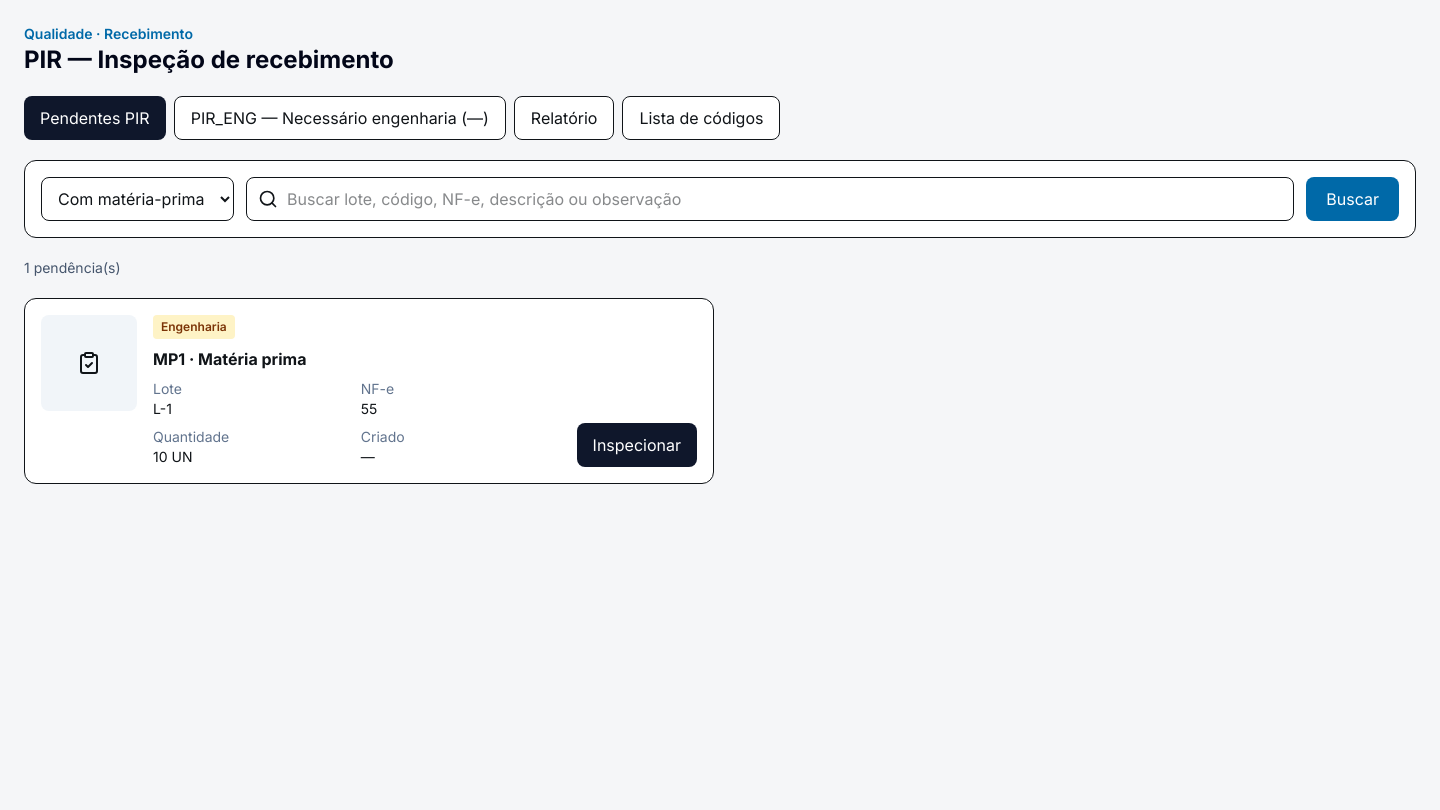
Test: PirScreen safety › loads PIR_ENG with the real flag and never mutates on view/open
expect the heading "MP1 · Matéria prima" is shown: met, box top-left (153, 349), bottom-right (306, 369)
What coordinates should you click on to do the following:
click the button "PIR_ENG — Necessário engenharia (—)"
I would click on:
 (340, 118)
Its box is top-left (174, 96), bottom-right (506, 140).
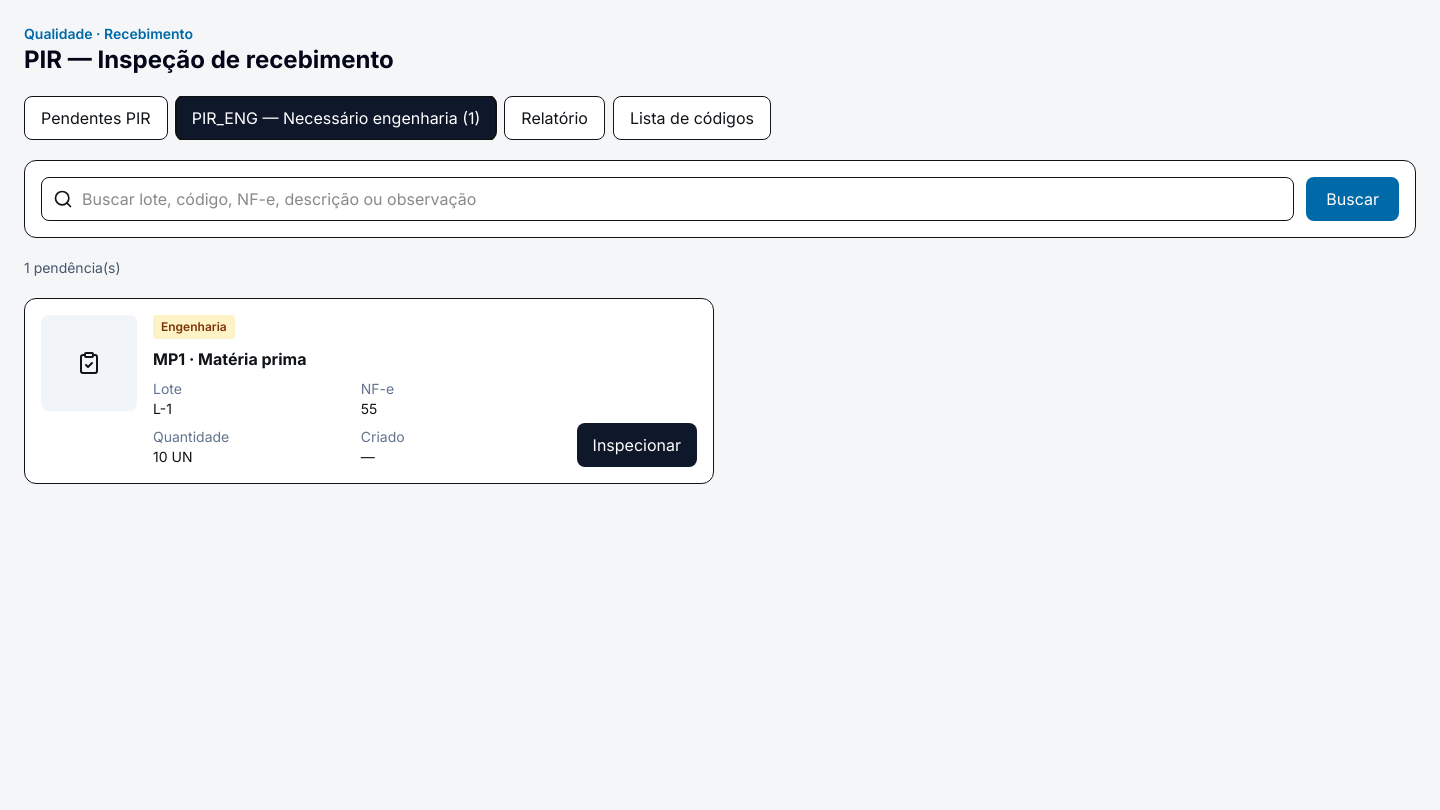
What coordinates should you click on to do the following:
click the button "Inspecionar"
I would click on:
 (637, 445)
Its box is top-left (577, 423), bottom-right (697, 467).
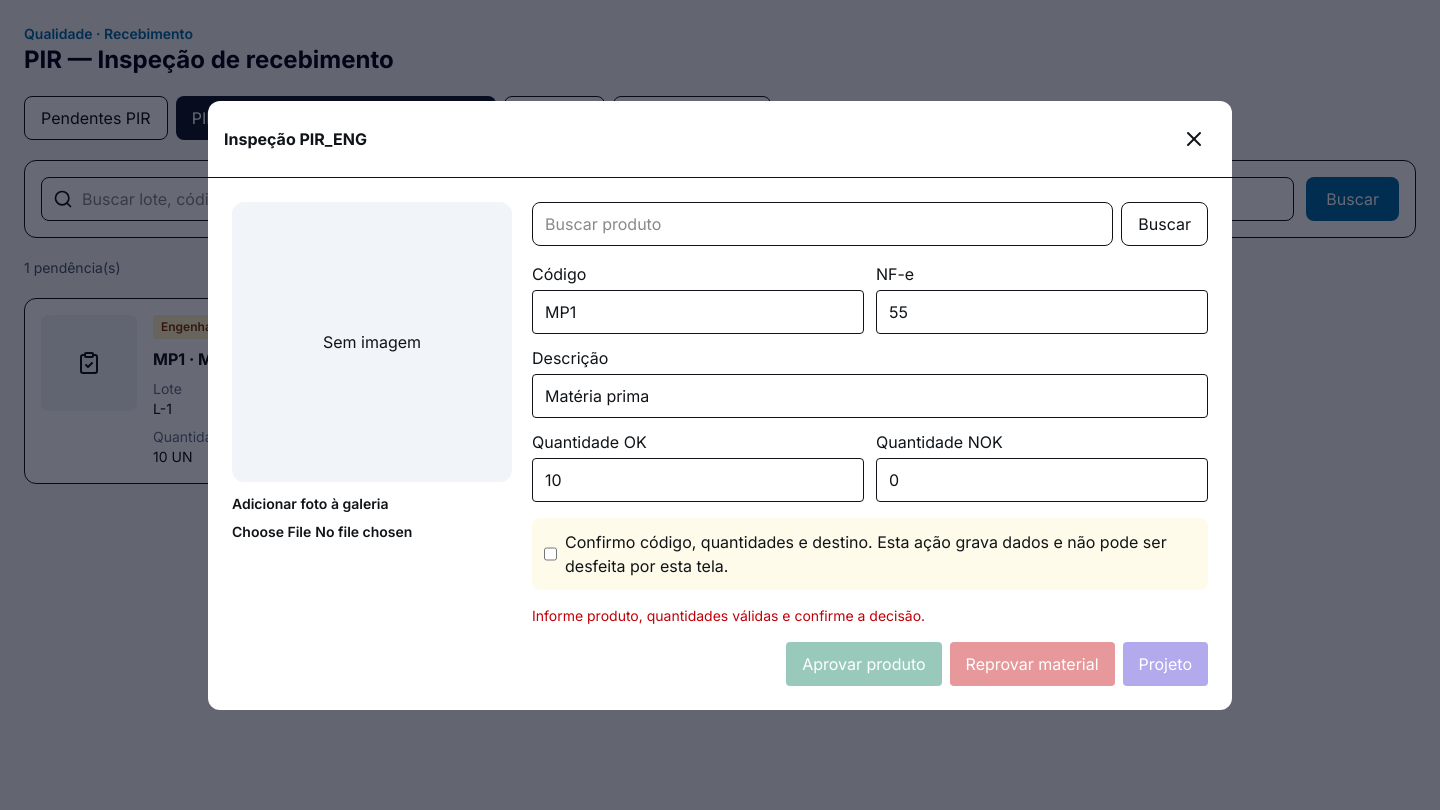
expect the button "Aprovar produto" is disabled: met, box top-left (786, 642), bottom-right (942, 686)
